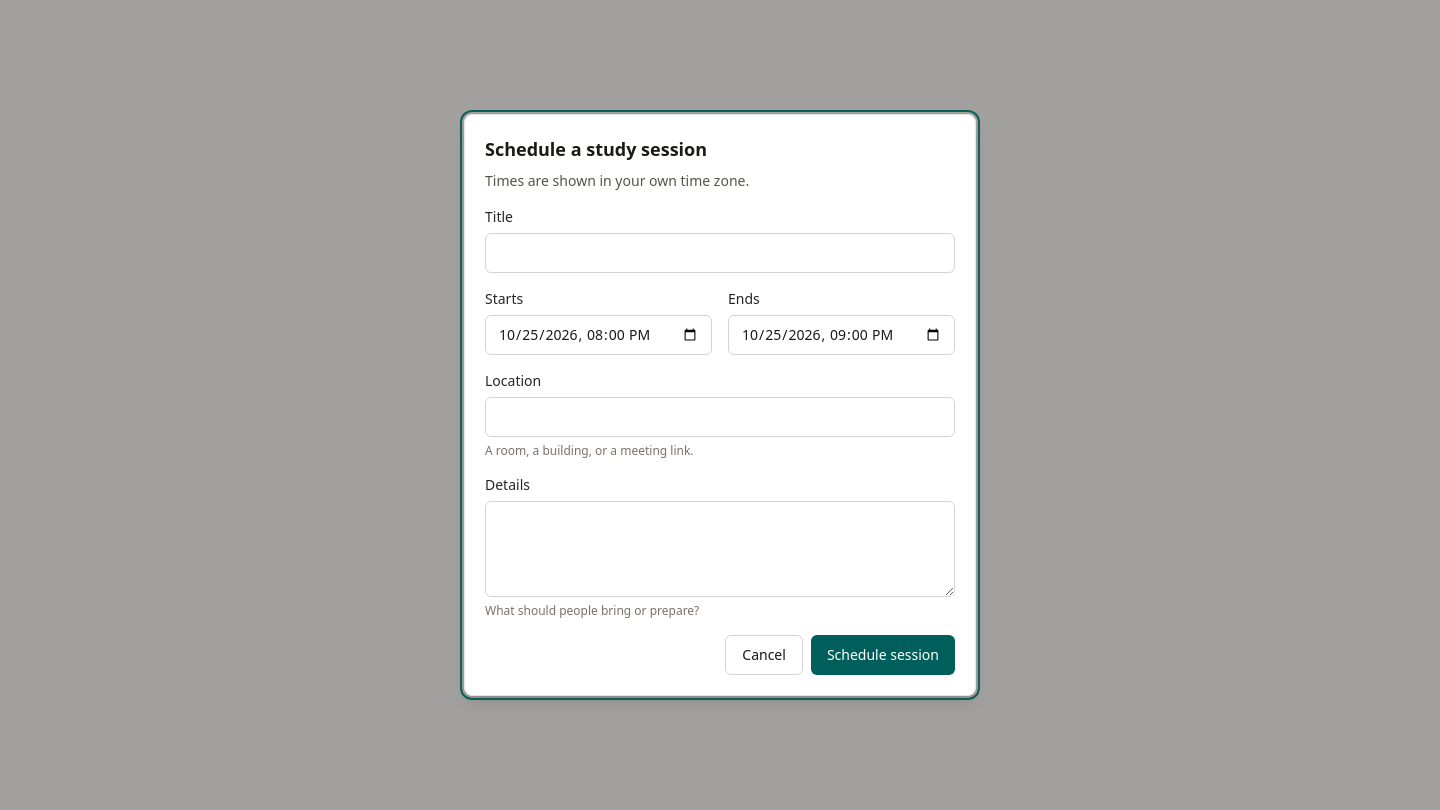
Test: SessionFormDialog › rejects an end time that is not after the start
Step 1. Type "Backwards" into the field labelled "Title" → (720, 253), box [485,233,955,273]
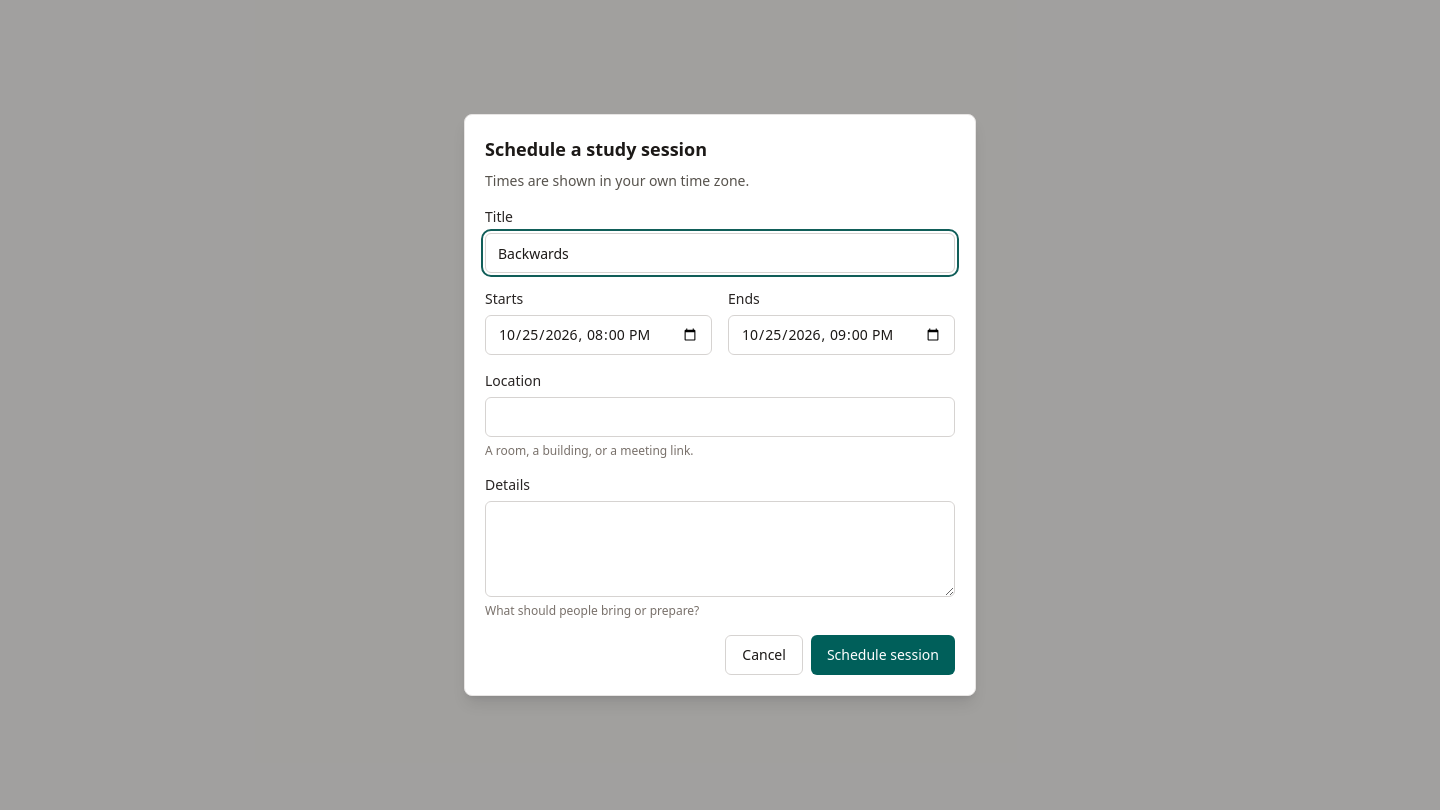
Step 2. Replace the text in the field labelled "Ends" with "2026-11-12T09:00" → (842, 335), box [728,315,955,355]
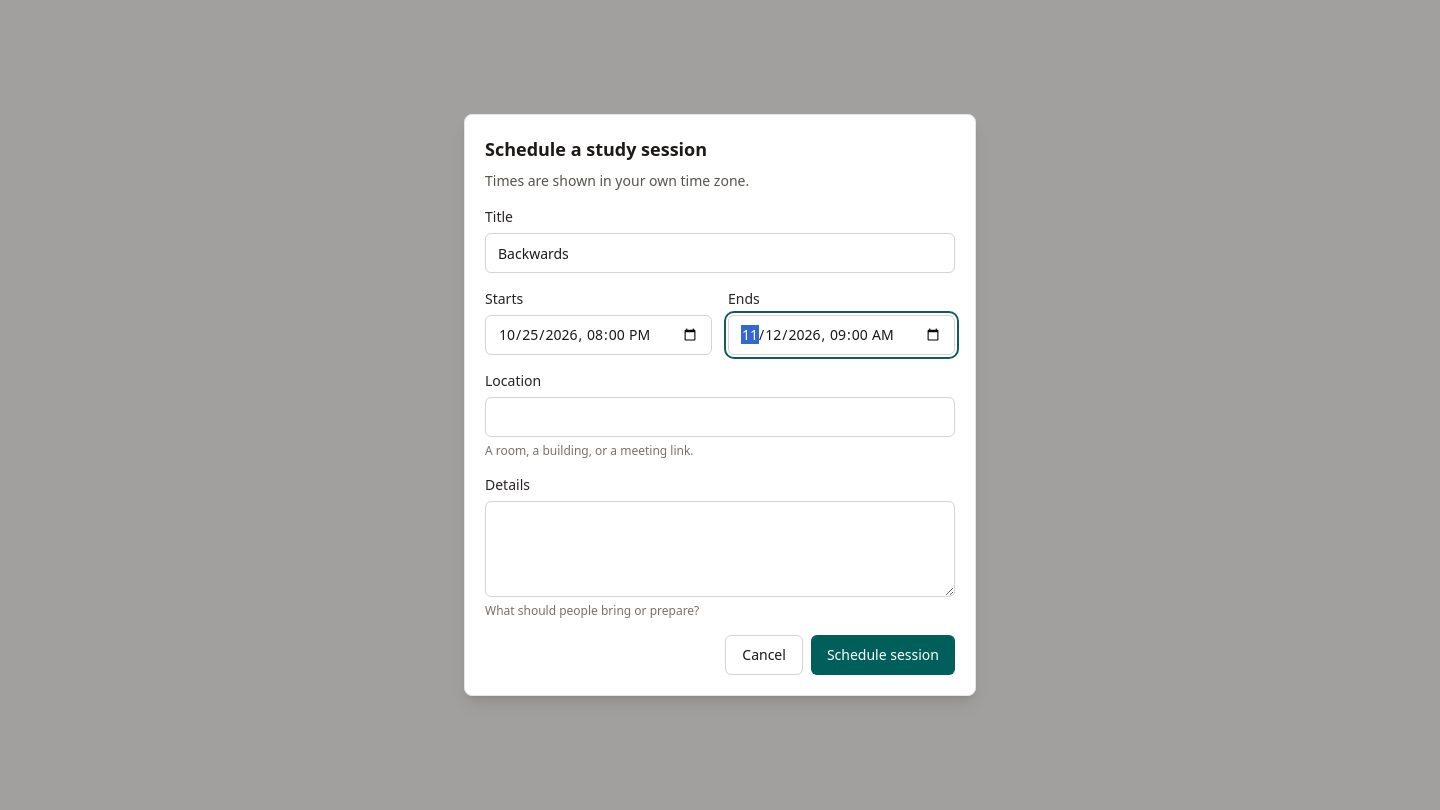
Step 3. Replace the text in the field labelled "Starts" with "2026-11-12T18:00" → (598, 335), box [485,315,712,355]
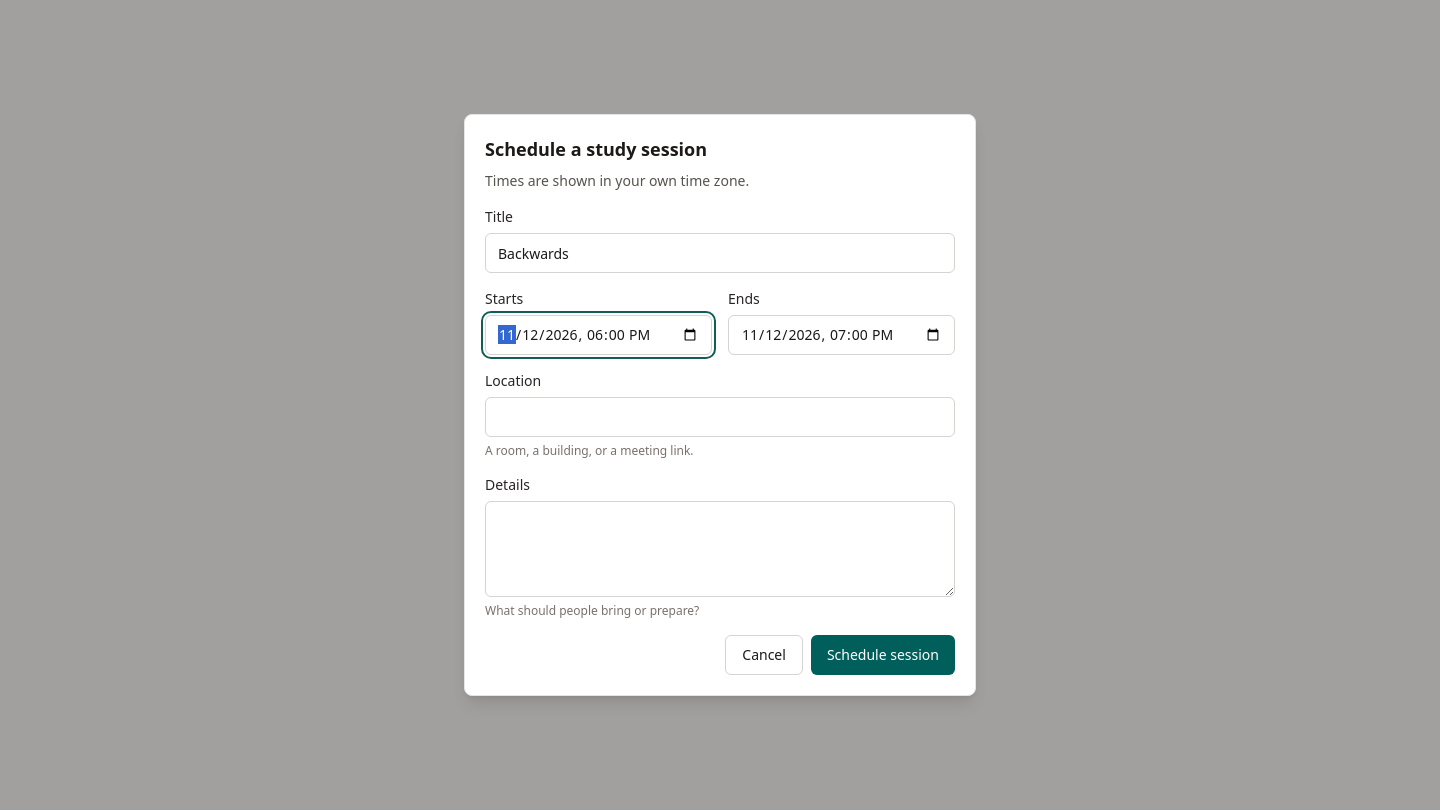
# Changing the start nudges the end along, so push it back again.
Step 4. Replace the text in the field labelled "Ends" with "2026-11-12T17:00" → (842, 335), box [728,315,955,355]
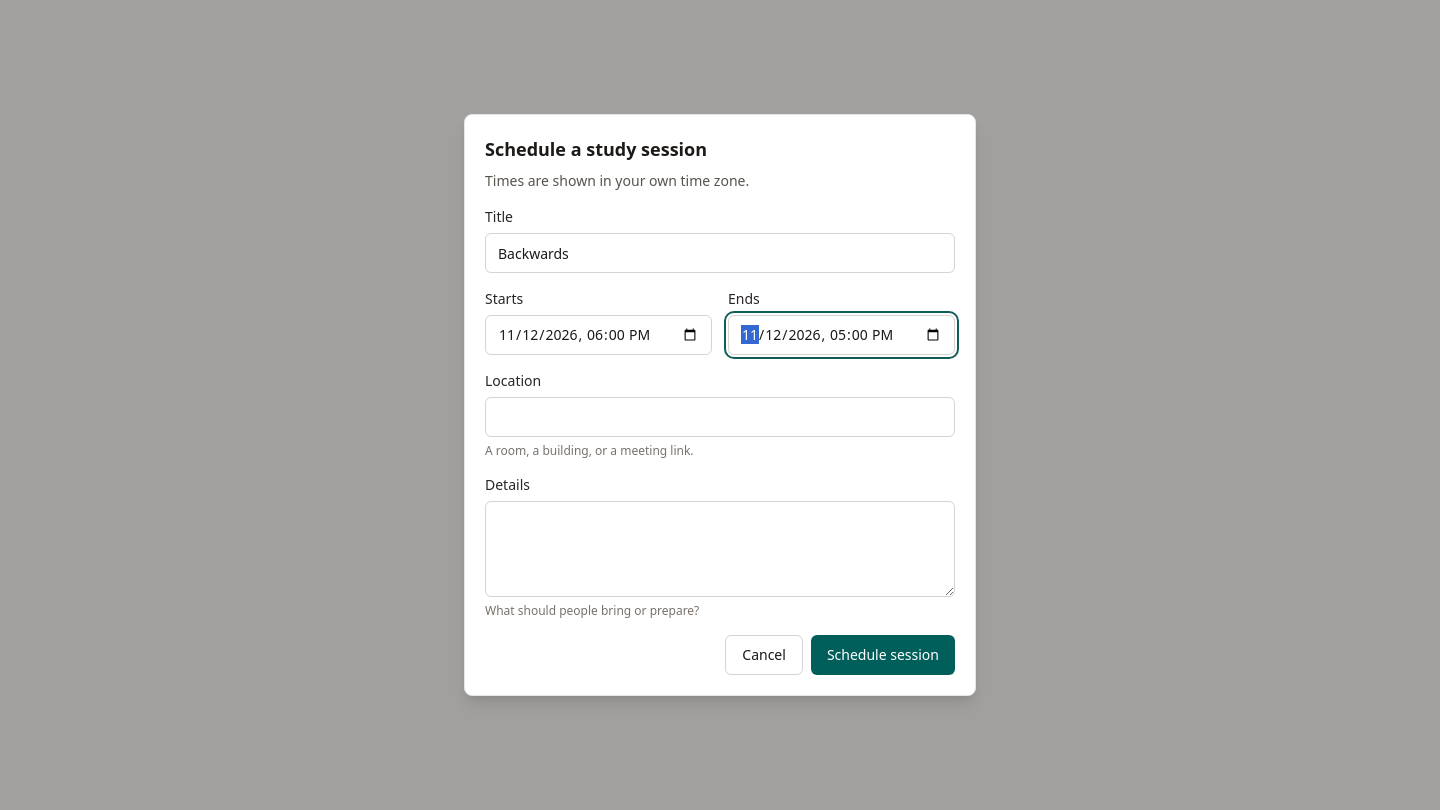
Step 5. Click the button "Schedule session" → (883, 655), box [811,635,955,675]
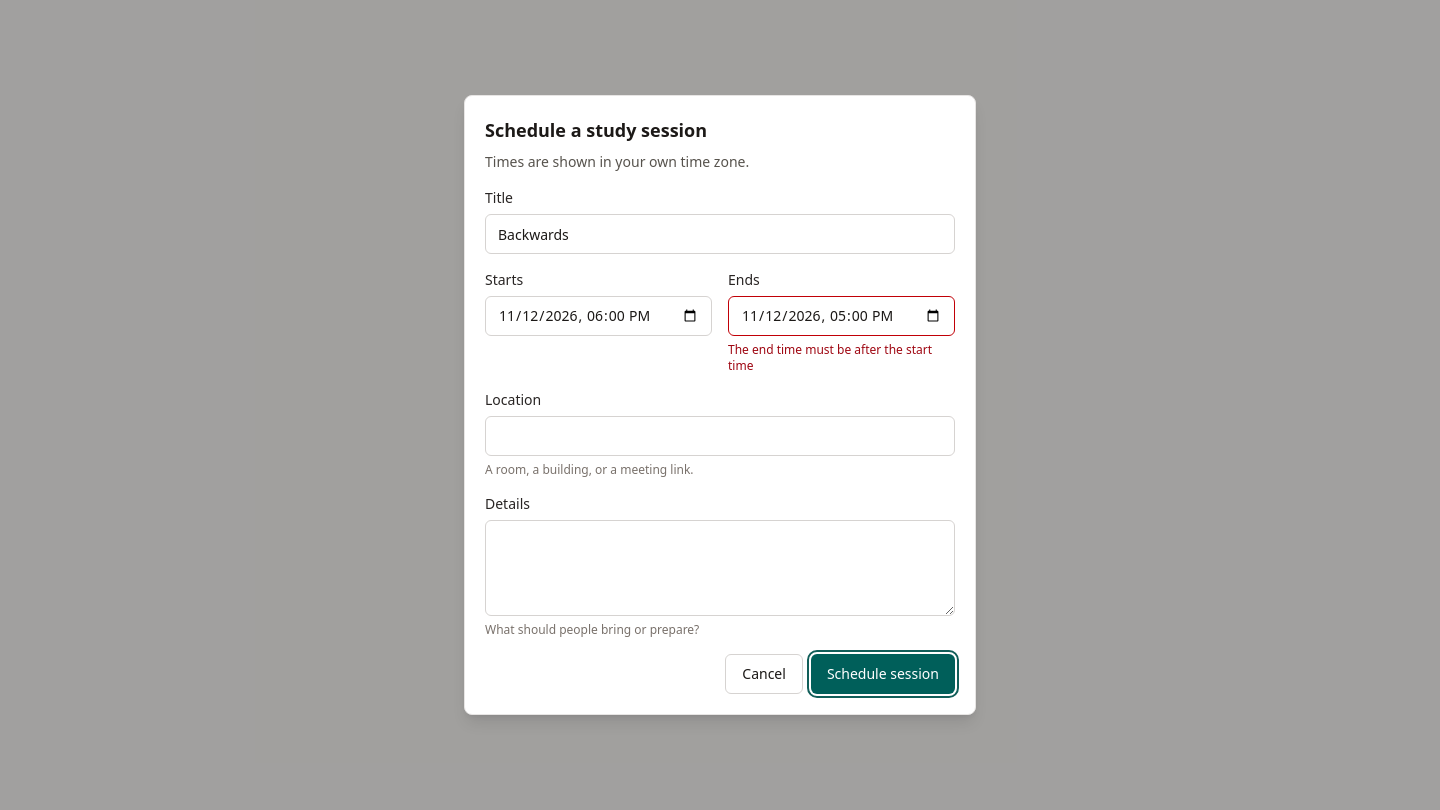
Expected: the text "The end time must be after the start time" is shown, [728,342,955,374]
